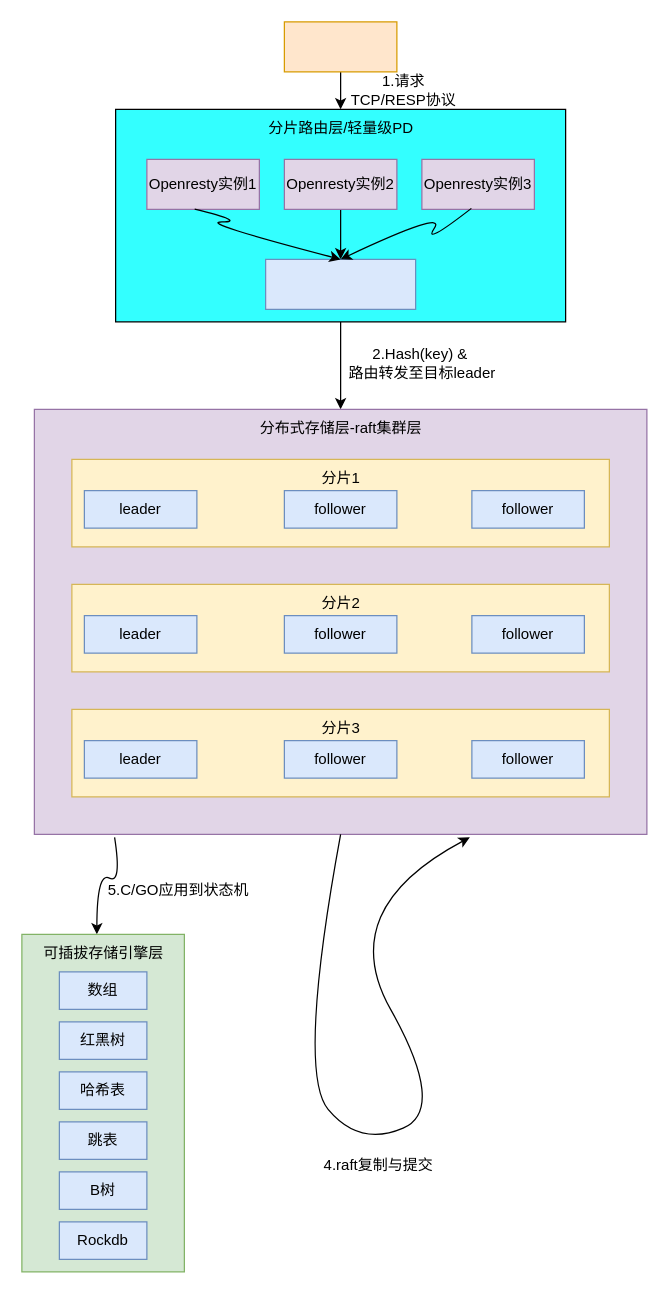
The diagram is 669 pixels wide and 1294 high, and some of its shapes have lost their labels. Here are the shapes that lost their labels. From the top down, the box of each, then its label:
(283, 21, 397, 72): 客户端
(264, 258, 416, 309): 路由脚本lua
